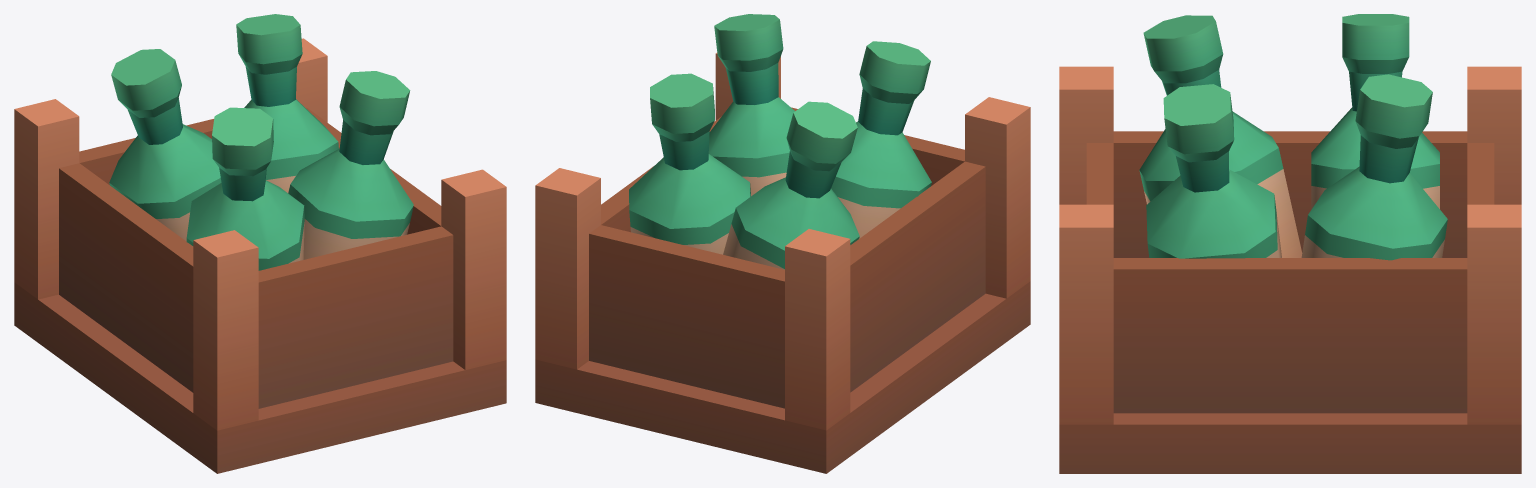
The model's file is crate-bottles.glb.
3 views of the same model, side by side, from view 1: azimuth 30°, elevation 25°; view 2: azimuth 150°, elevation 25°; view 3: azimuth 270°, elevation 25° (orthographic). The views are drawn at different scales.
Visible parts, largest first — view 1: crate-bottles; view 2: crate-bottles; view 3: crate-bottles.
Boxes of the visible parts, x1,y1,x2,y2 form: crate-bottles: (14,14,506,473); crate-bottles: (535,14,1030,473); crate-bottles: (1059,14,1521,473).
Bounding box in the file's own units: 1.08 × 1.06 × 1.31.
Materials: 1 (1 with a texture image).
